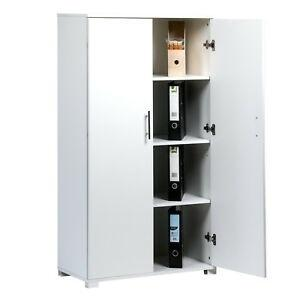cabinet_door: (87, 19, 153, 277), (210, 18, 265, 271)
handle: (144, 109, 152, 143)
